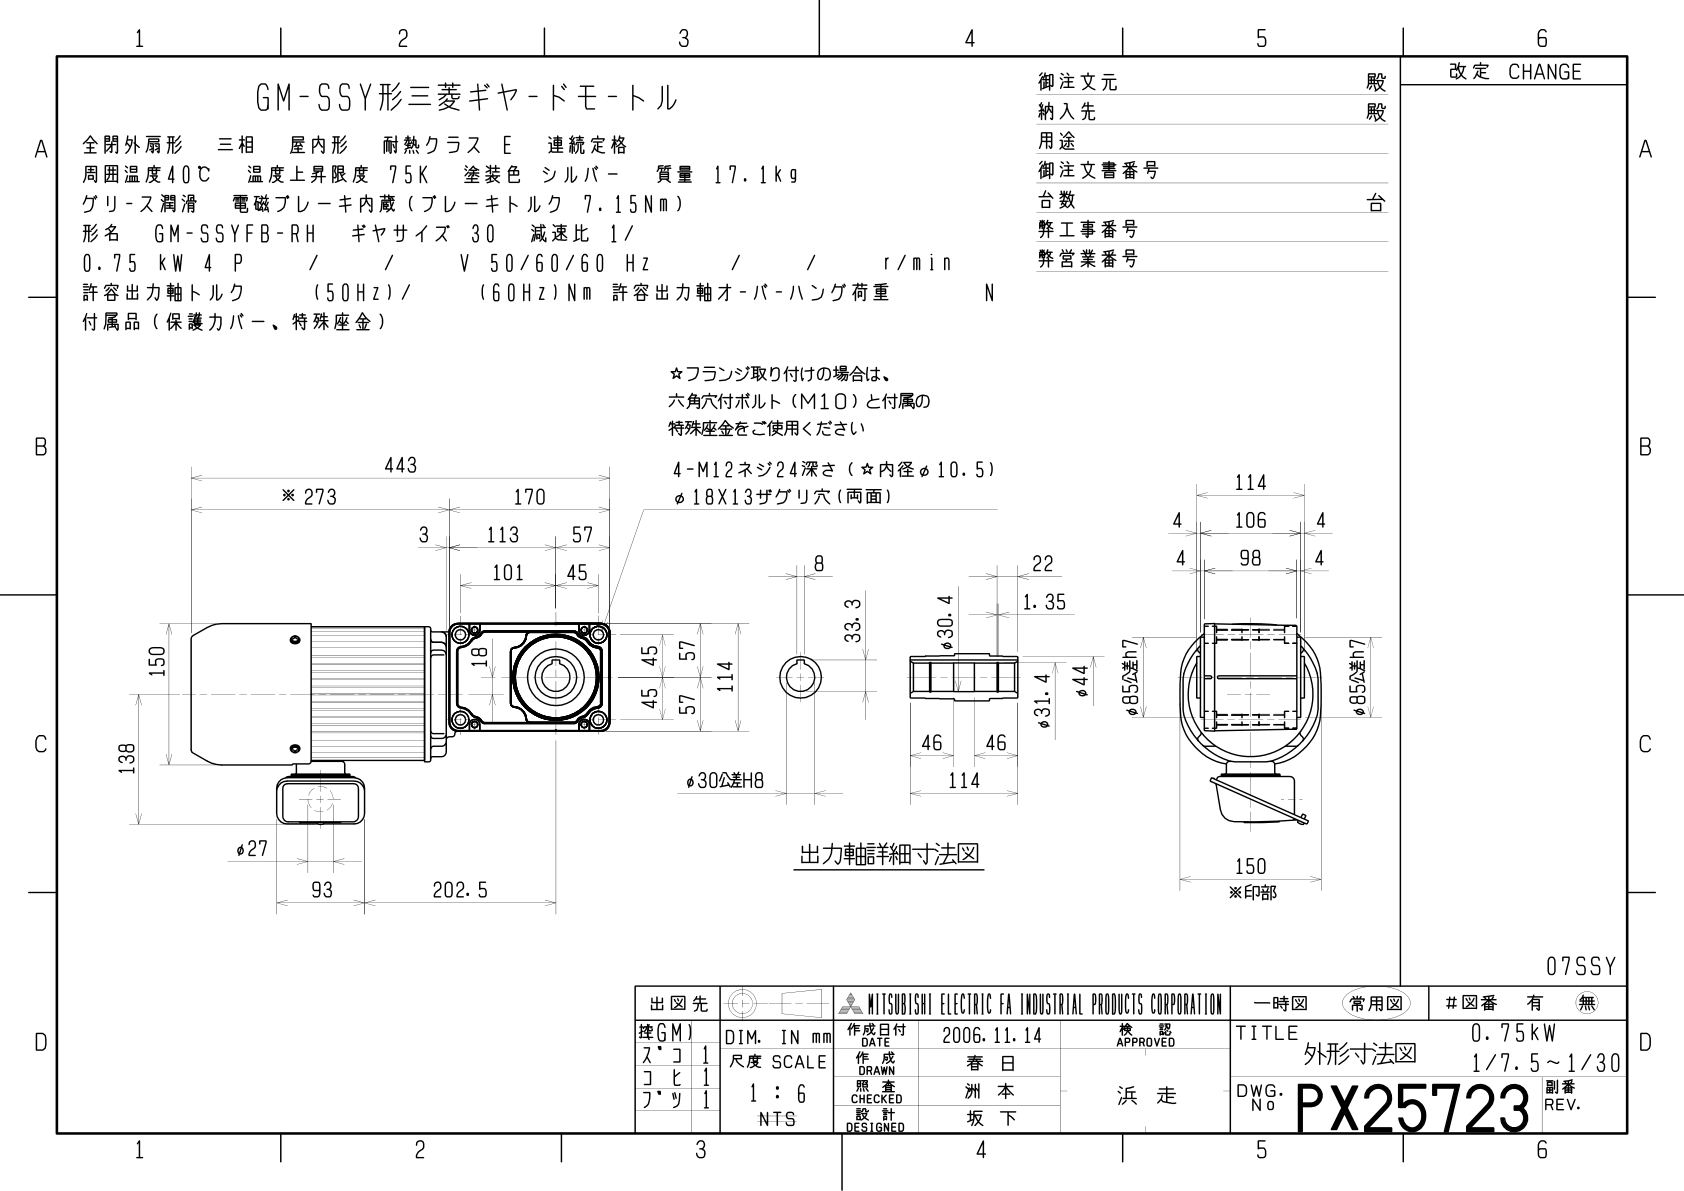GM_SSY_屋内_三相: (15, 10, 1684, 1191)
